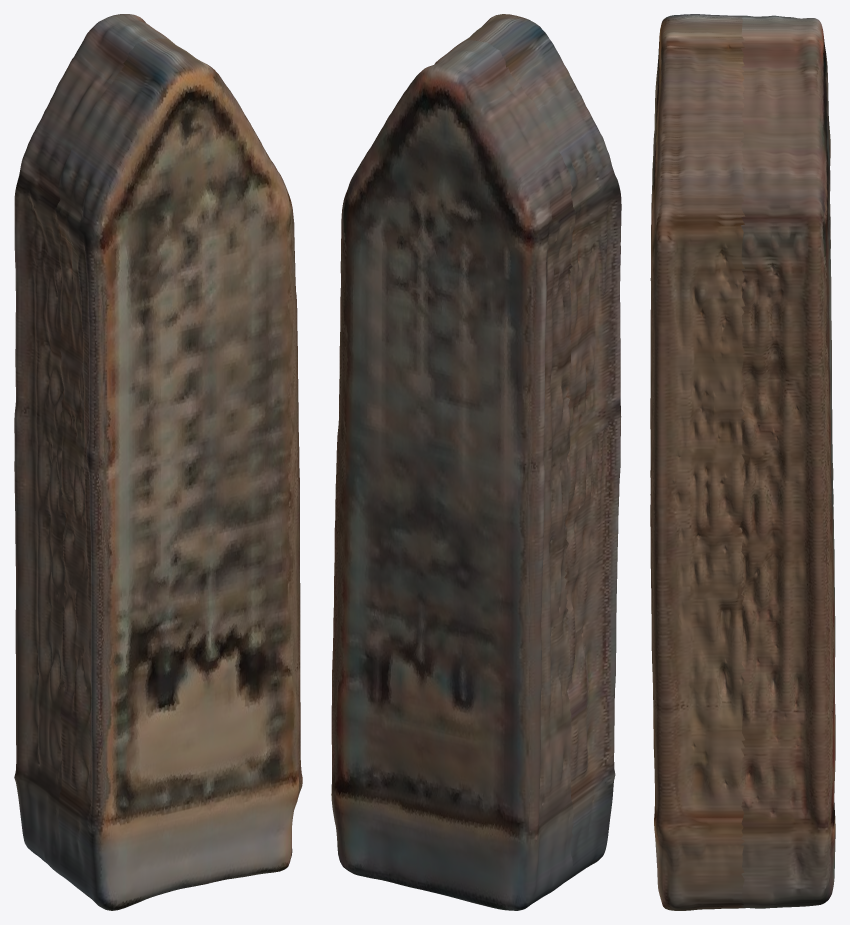
Rendered from kfl-2206.glb.
3 renders of one model, left to right at view 1: azimuth 30°, elevation 25°; view 2: azimuth 150°, elevation 25°; view 3: azimuth 270°, elevation 25°, orthographic.
Parts seen in each view (by area): view 1: geometry_0; view 2: geometry_0; view 3: geometry_0.
Boxes of the visible parts, x1,y1,x2,y2 form: geometry_0: [14, 14, 302, 910]; geometry_0: [331, 14, 621, 910]; geometry_0: [650, 14, 835, 910].
Bounding box in the file's own units: 0.2684 × 0.9947 × 0.1976.
Materials: 1 (1 with a texture image).
